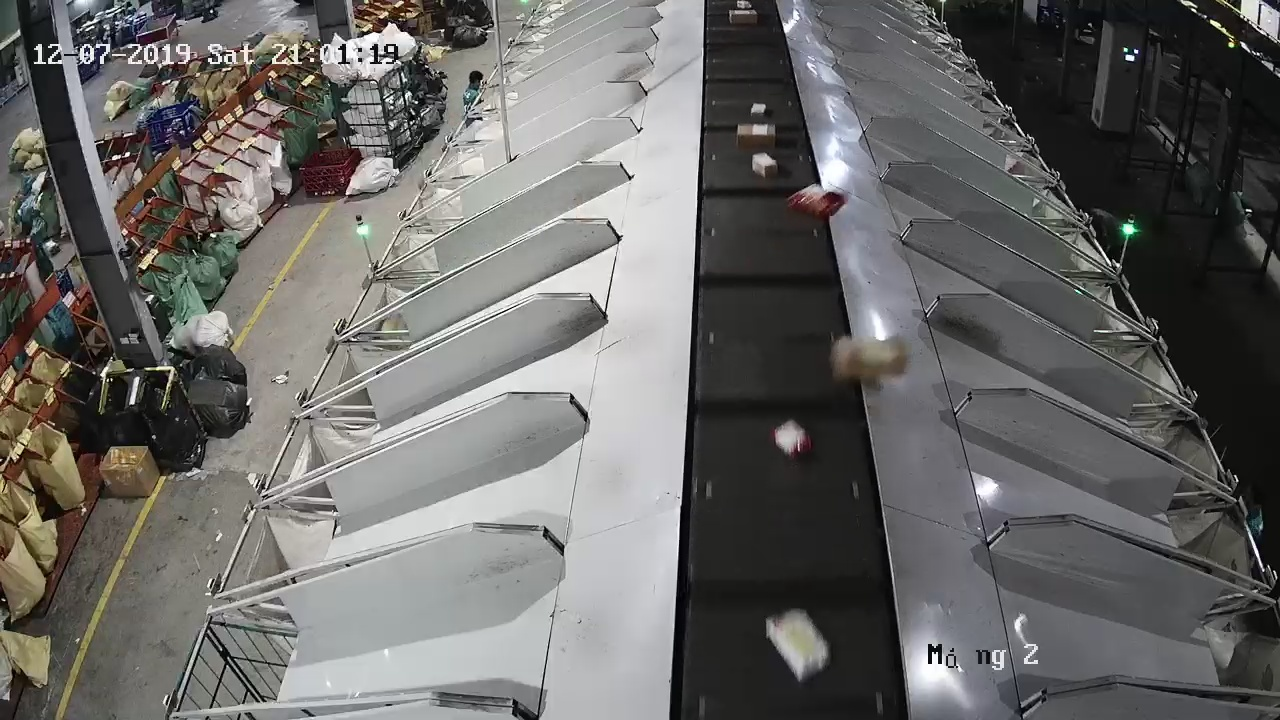parcel: (828, 333, 908, 385), (784, 182, 846, 221)
